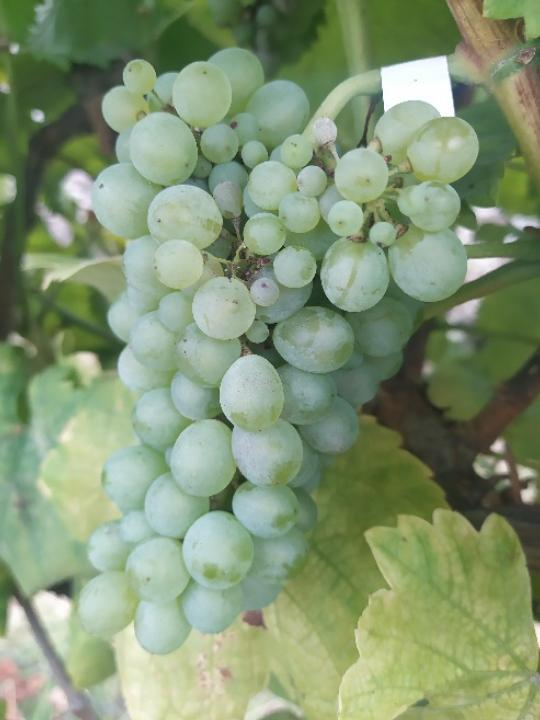grape: (75, 43, 481, 658)
